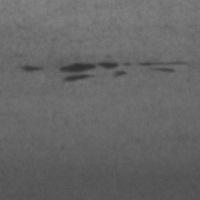inclusion: (52, 56, 191, 84), (16, 61, 49, 76)
